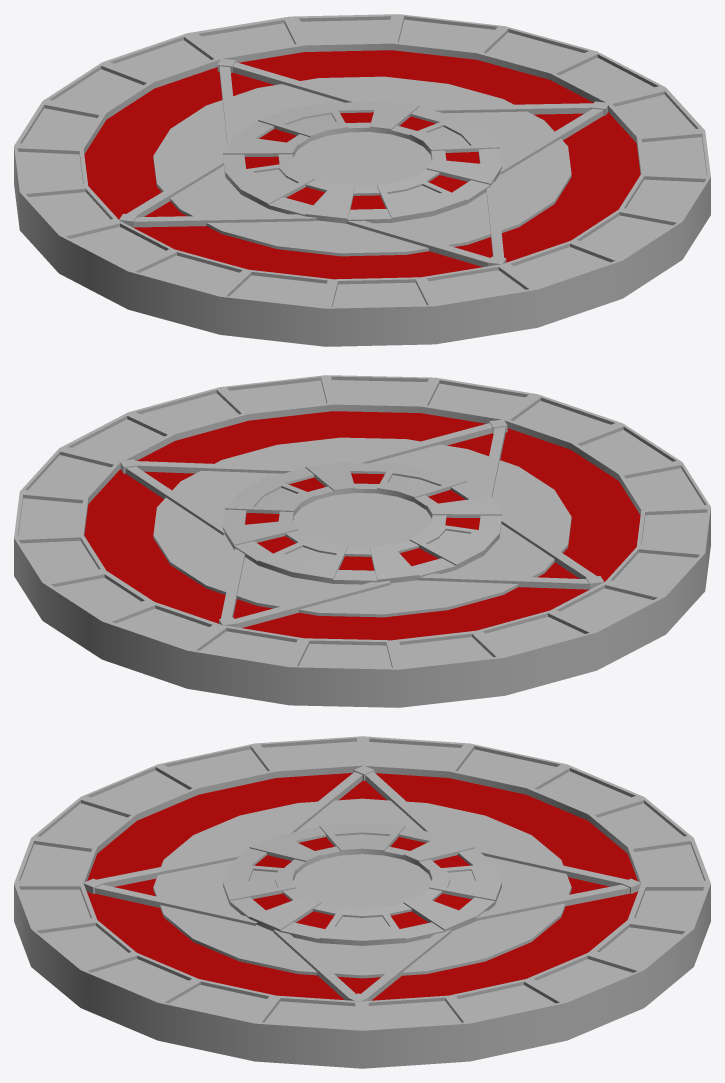
File: plataforma.fbx
3 views of the same model, one above another, from view 1: azimuth 30°, elevation 25°; view 2: azimuth 150°, elevation 25°; view 3: azimuth 270°, elevation 25° (orthographic).
Visible parts, largest first — view 1: pCube5, pCube5.001; view 2: pCube5, pCube5.001; view 3: pCube5, pCube5.001.
Boxes of the visible parts, bbox=[...] form: pCube5: bbox=[14, 14, 710, 346]; pCube5.001: bbox=[84, 50, 640, 279]; pCube5: bbox=[14, 375, 710, 707]; pCube5.001: bbox=[84, 411, 640, 640]; pCube5: bbox=[14, 736, 710, 1068]; pCube5.001: bbox=[86, 773, 638, 1000].
Bounding box in the file's own units: 2 × 0.1367 × 2.
